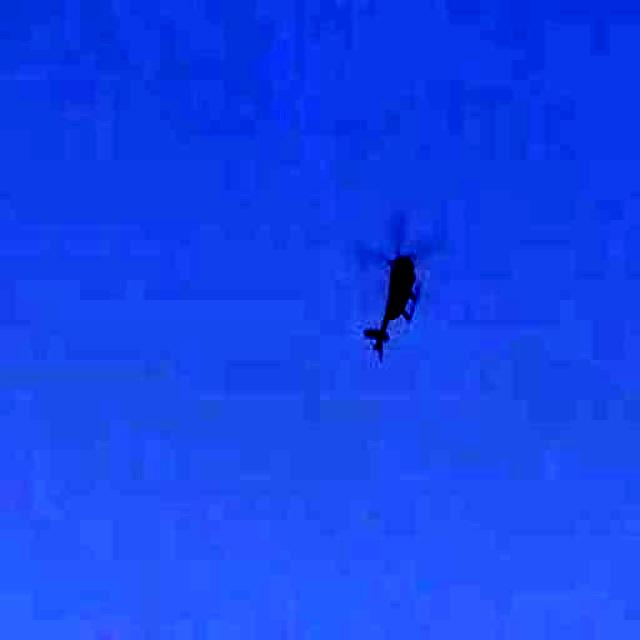drone: (334, 182, 464, 391)
